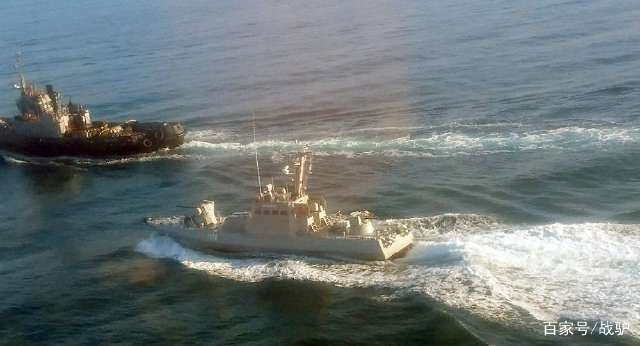otherboat: (1, 59, 191, 157)
warship: (140, 154, 447, 261)
